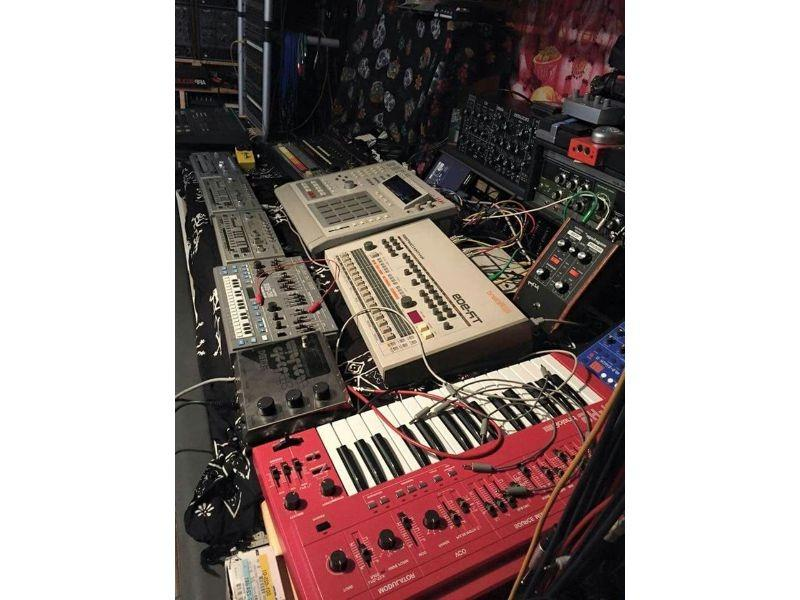synthesizer: (234, 403, 609, 570)
